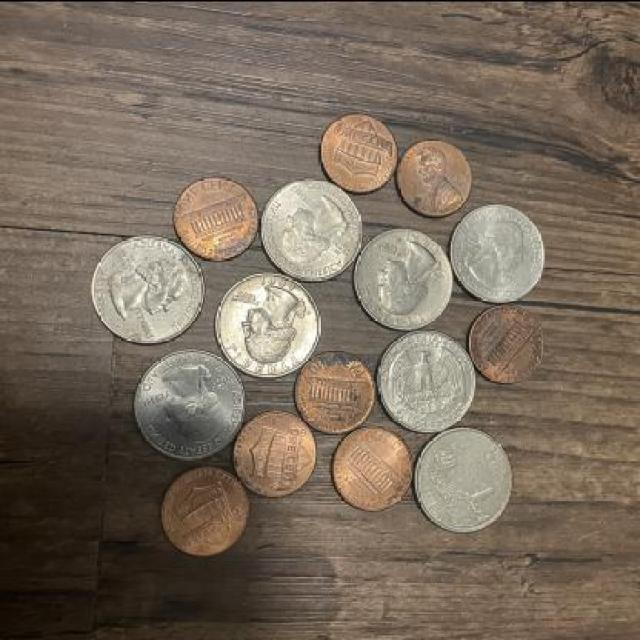Penny: (162, 464, 250, 556), (235, 406, 318, 499), (292, 344, 377, 434), (172, 174, 262, 258), (331, 424, 414, 510), (316, 109, 398, 194), (469, 302, 546, 384), (398, 137, 476, 217)
Quarter: (134, 344, 248, 462), (90, 232, 206, 346), (217, 271, 323, 378), (372, 329, 477, 434), (416, 422, 516, 532), (260, 177, 366, 280), (356, 226, 452, 331), (448, 203, 548, 302)
